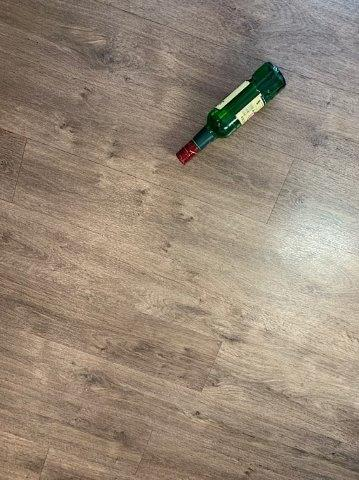botolkaca: (176, 63, 287, 166)
